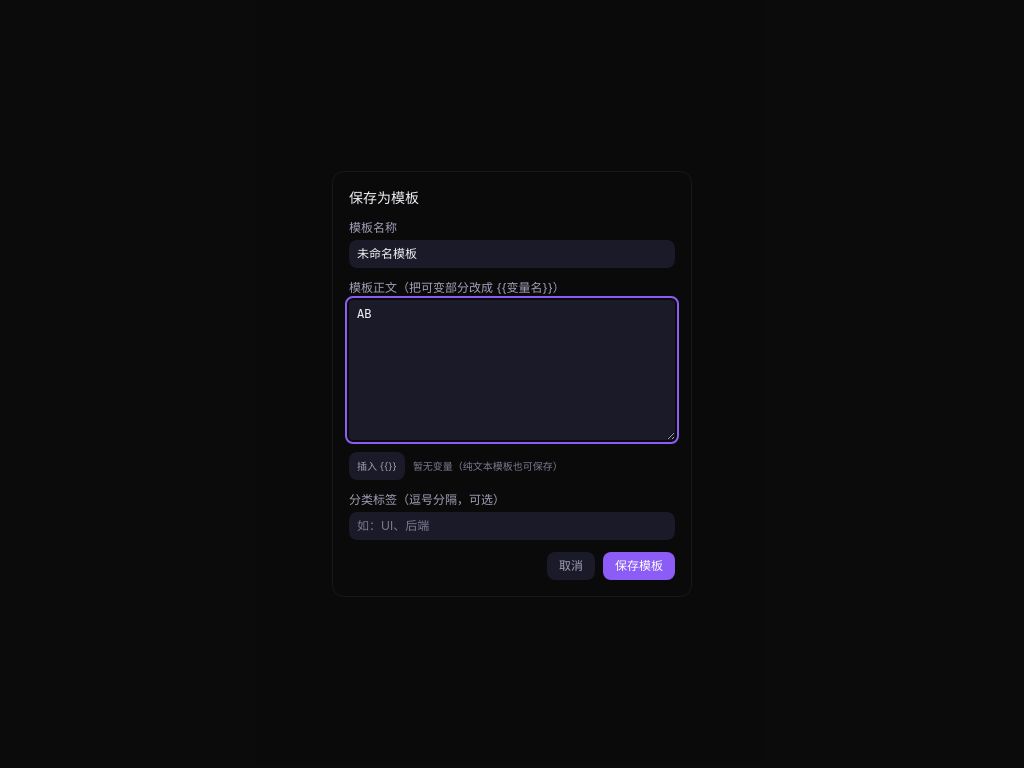
Test case: TemplateSaveDialog › 插入按钮在正文光标处插入 {{}}
The width and height of the screenshot is (1024, 768).
Click the button "插入 {{}}": (377, 466) [349, 452, 405, 480]
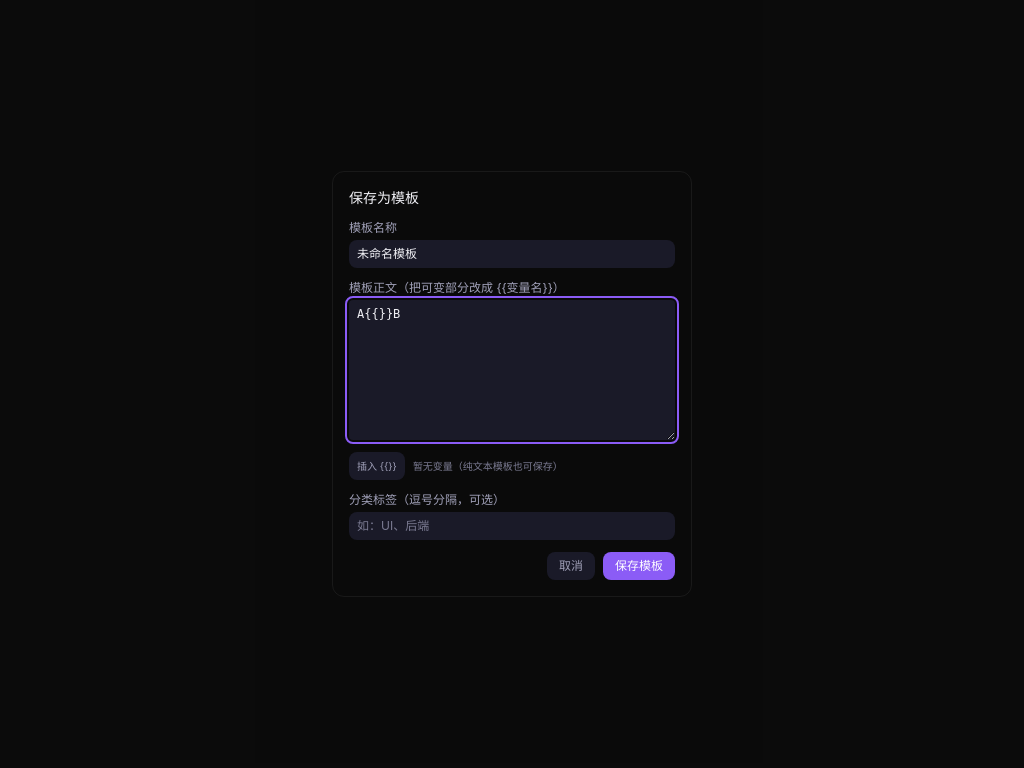
Check: the text box labelled "模板正文" holds "A{{}}B", box [349, 300, 675, 440]
